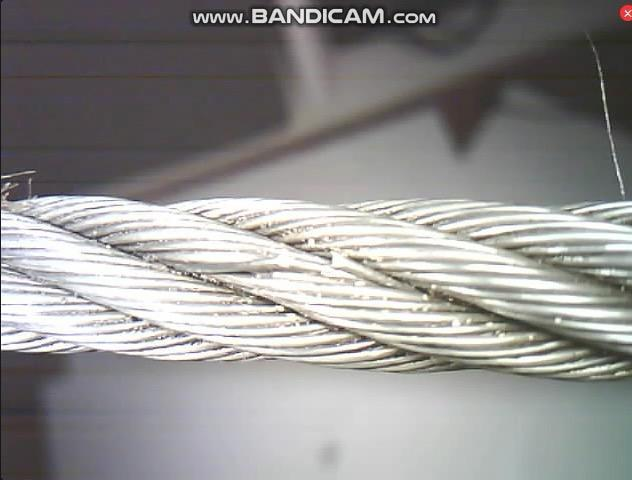break: (255, 239, 360, 279)
